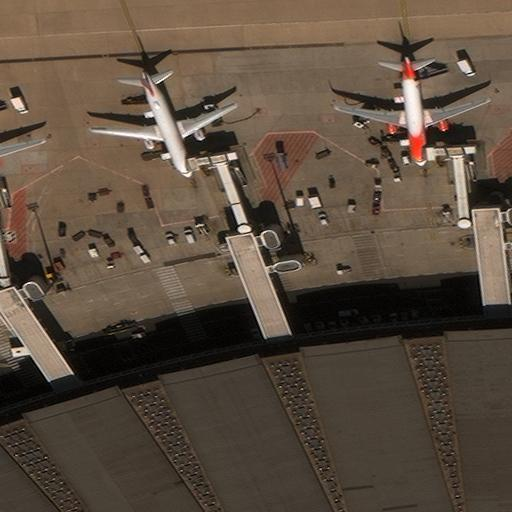Medium Civil Transport: (334, 56, 492, 165), (89, 71, 237, 177), (0, 112, 46, 177)
